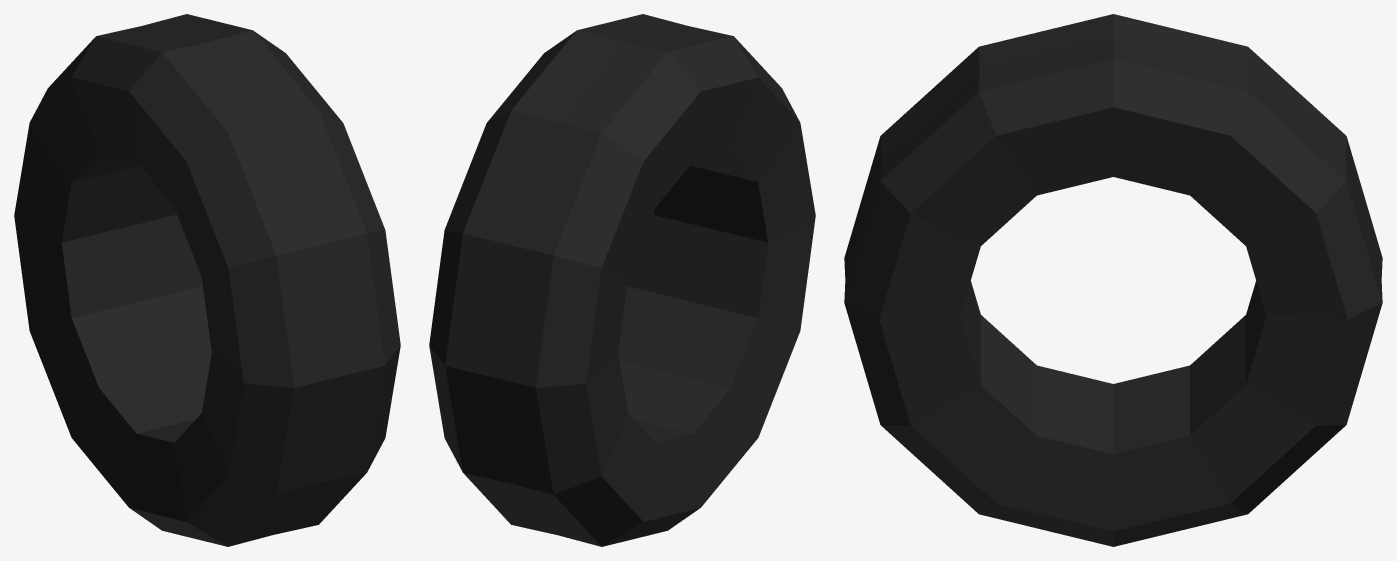
The model's file is RuedaSupermercado_1.fbx.
The picture shows the model from 3 angles, left to right: view 1: azimuth 30°, elevation 25°; view 2: azimuth 150°, elevation 25°; view 3: azimuth 270°, elevation 25°; orthographic projection.
Visible parts, largest first — view 1: RuedaMercado.001; view 2: RuedaMercado.001; view 3: RuedaMercado.001.
Boxes of the visible parts, x1,y1,x2,y2 form: RuedaMercado.001: [14, 14, 400, 546]; RuedaMercado.001: [429, 14, 815, 546]; RuedaMercado.001: [844, 14, 1382, 546].
Bounding box in the file's own units: 11.1 × 32.32 × 32.32.
1 material, 1 textured.
